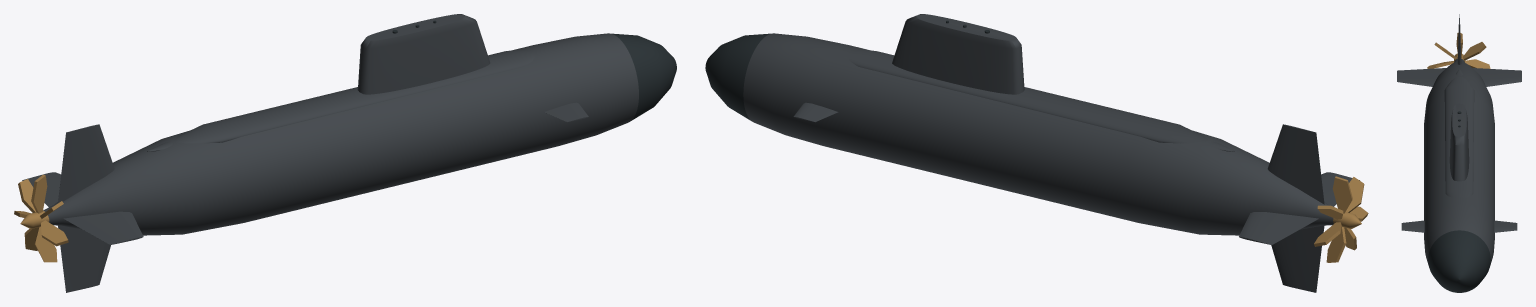
The model's file is rfn_ssk_kilo_877.glb.
The picture shows the model from 3 angles, left to right: view 1: azimuth 30°, elevation 25°; view 2: azimuth 150°, elevation 25°; view 3: azimuth 270°, elevation 25°; orthographic projection. The views are drawn at different scales.
Parts seen in each view (by area): view 1: submarine_coating, boot_topping, bronze; view 2: submarine_coating, boot_topping, bronze; view 3: submarine_coating, boot_topping, bronze.
Boxes of the visible parts, <box> form: submarine_coating: <box>22,14,638,292</box>; boot_topping: <box>392,20,676,120</box>; bronze: <box>14,174,68,262</box>; submarine_coating: <box>743,14,1359,292</box>; boot_topping: <box>705,20,989,120</box>; bronze: <box>1314,176,1368,262</box>; submarine_coating: <box>1397,14,1521,264</box>; boot_topping: <box>1428,111,1490,292</box>; bronze: <box>1427,32,1490,68</box>.
Bounding box in the file's own units: 10 × 2.66 × 2.34.
